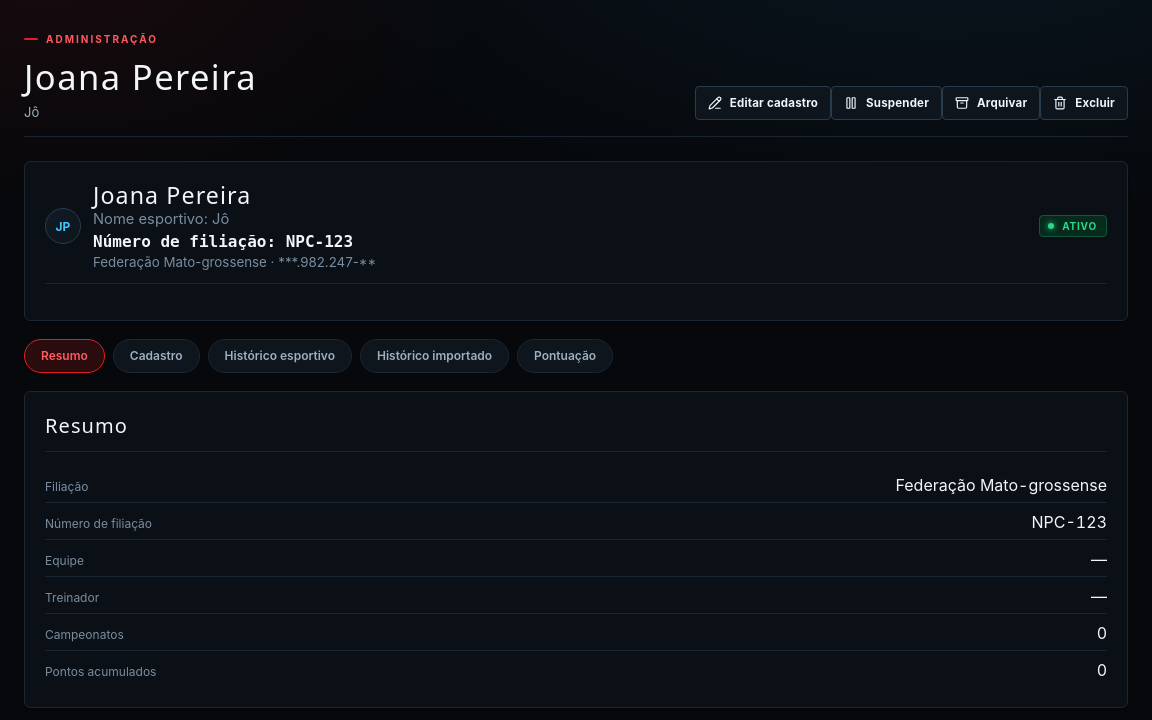
Test case: o CPF nunca é desmascarado pela tela › recusa do servidor aparece como veio, e o campo continua mascarado
What coordinates should you click on to do the following:
click the button "Cadastro"
I would click on:
 (156, 356)
Its box is [113, 339, 200, 373].
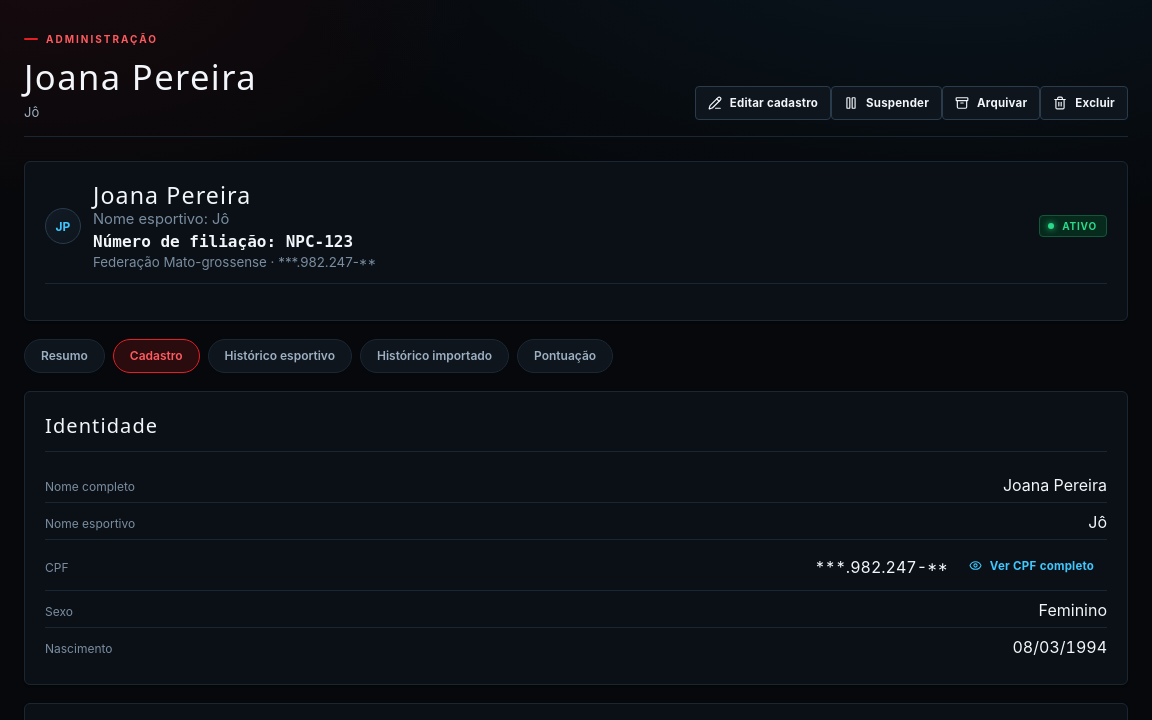
What coordinates should you click on to do the following:
click the button "Ver CPF completo"
I would click on:
 (1031, 566)
Its box is [956, 549, 1107, 583].
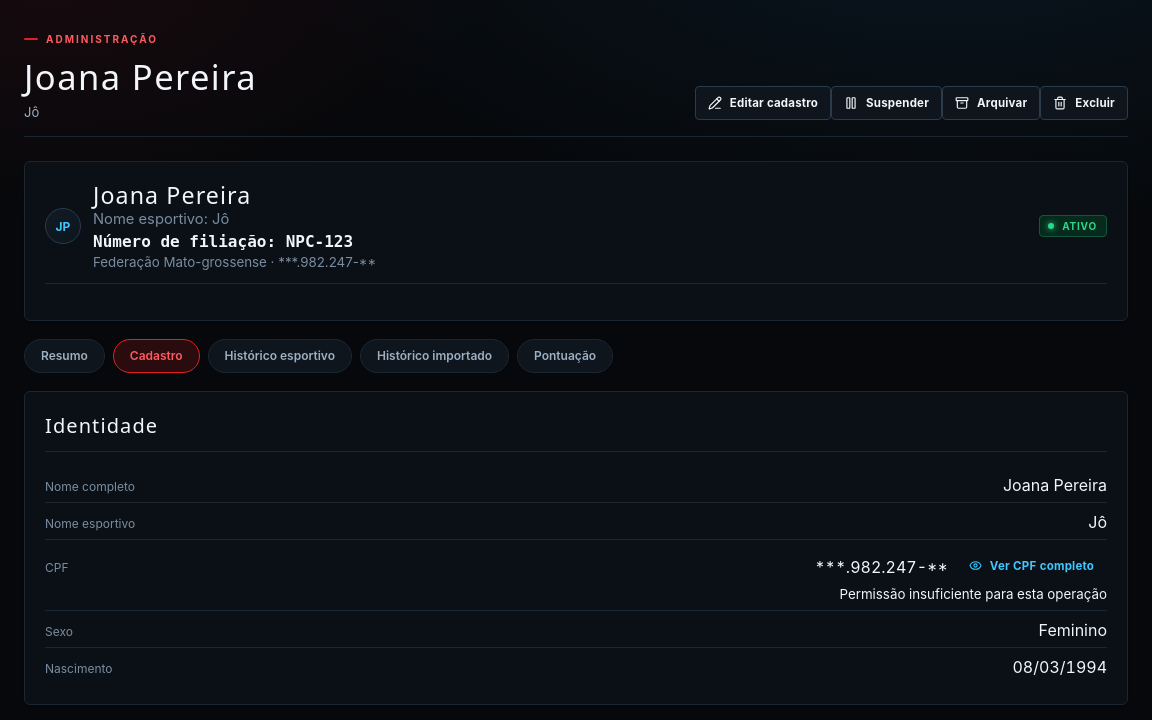
expect the text "***.982.247-**" is shown: met, box [815, 556, 948, 576]
expect the text "Permissão insuficiente para esta operação" is shown: met, box [840, 586, 1107, 602]
